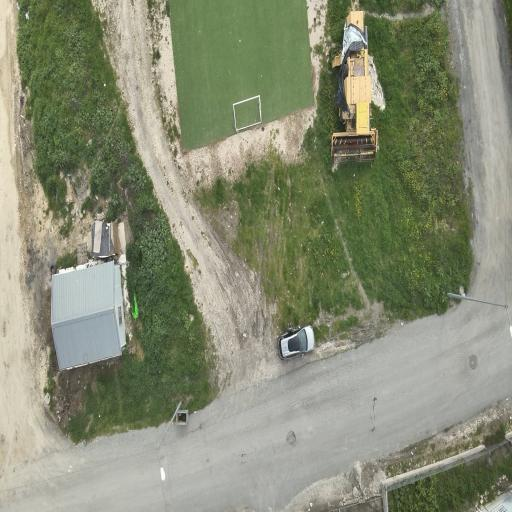car: (278, 325, 313, 358)
harvester: (331, 10, 376, 163)
